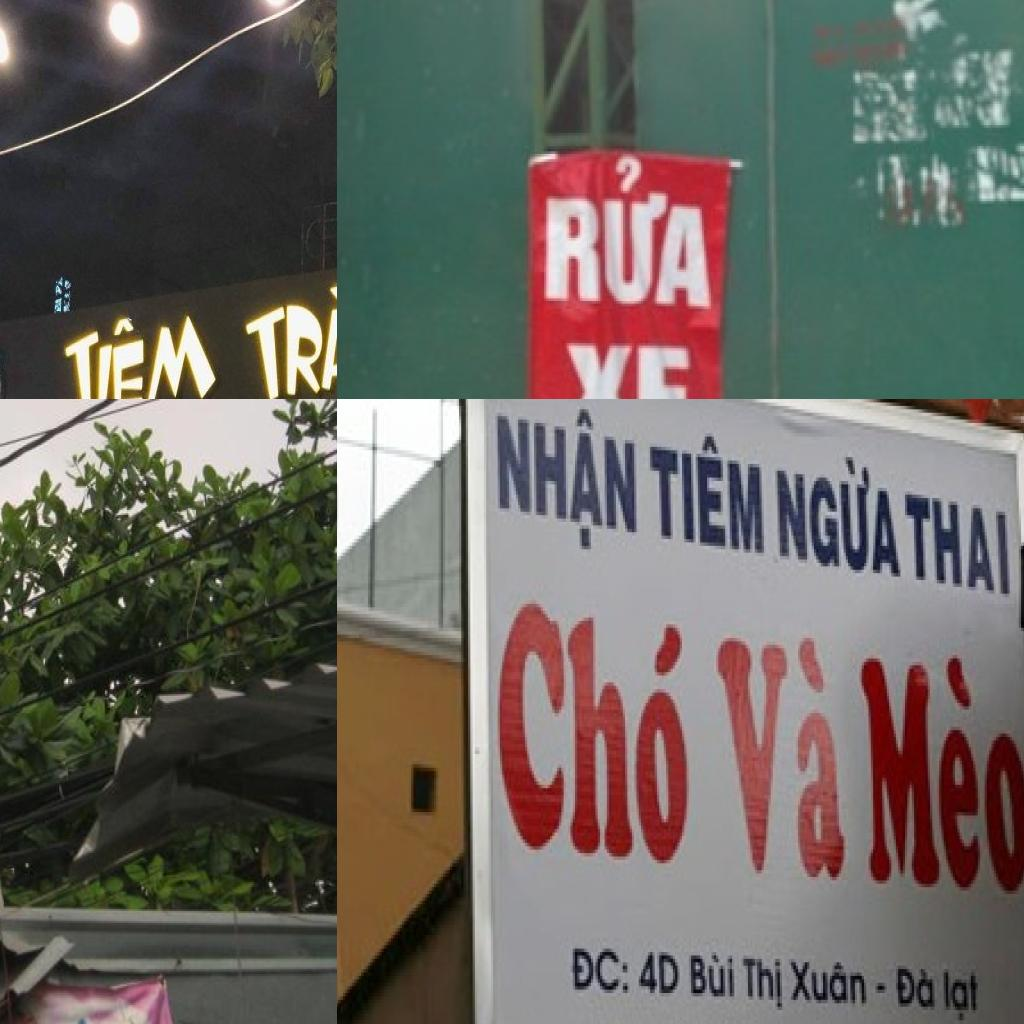text: (496, 601, 694, 870), (859, 648, 1024, 900), (712, 638, 850, 891), (539, 146, 720, 317), (497, 399, 638, 559), (775, 444, 905, 584), (650, 426, 766, 560), (65, 309, 220, 399), (241, 284, 337, 399), (905, 495, 1012, 597), (557, 337, 697, 399), (789, 959, 871, 1007), (571, 948, 634, 1000), (741, 955, 787, 1017), (689, 949, 739, 1003), (634, 952, 682, 1003), (943, 969, 982, 1024), (896, 966, 939, 1014), (875, 983, 887, 993)
